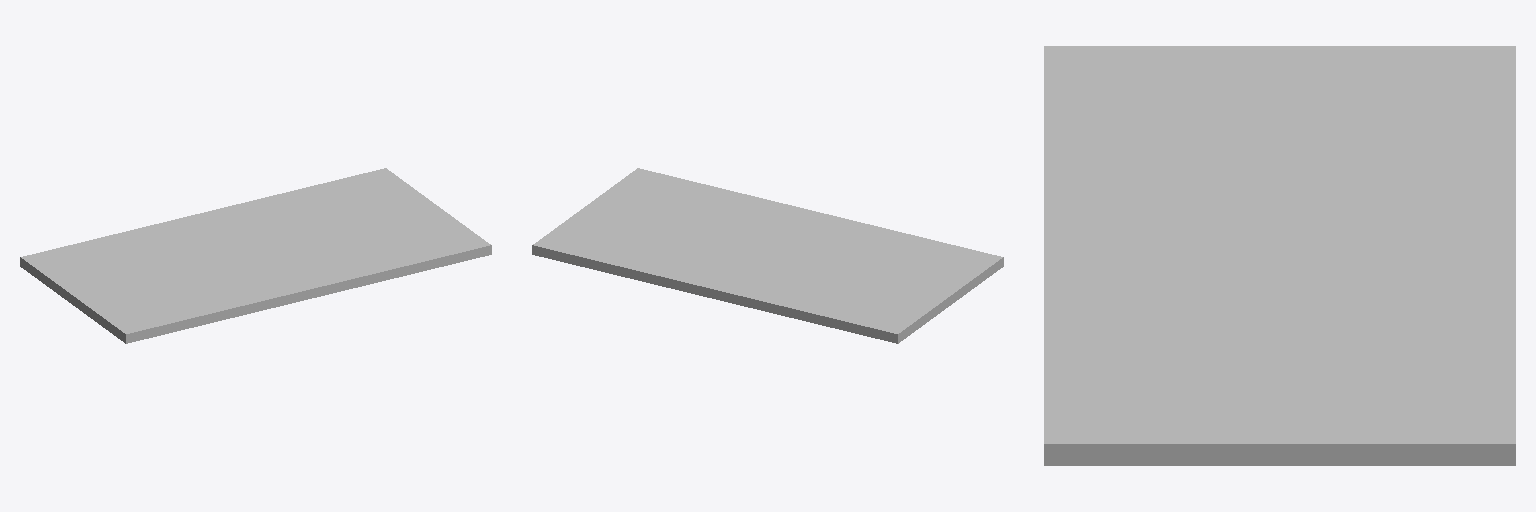
robot.urdf — table:
<robot name="table">
  <link name="table_body">
    <visual>
      <geometry>
        <box size="4 2 0.1"/>
      </geometry>
      <origin rpy="0 0 0" xyz="0 0 0"/>
      <material name="whitish">
        <color rgba="0.8 0.8 0.8 1"/>
      </material>
    </visual>
    <collision>
      <geometry>
        <box size="4 2 0.1"/>
      </geometry>
      <origin rpy="0 0 0" xyz="0 0 0"/>
    </collision>
    <inertial>
      <mass value="10"/>
      <inertia ixx="0.4" ixy="0.0" ixz="0.0" iyy="0.4" iyz="0.0" izz="0.2"/>
    </inertial>
    <contact>
      <lateral_friction value="1.0"/>
      <rolling_friction value="0.0"/>
      <contact_cfm value="0.0"/>
      <contact_erp value="1.0"/>
    </contact>
  </link>
</robot>

--- Render facts (derived) ---
Views: 3 orthographic renders of the robot side by side, from view 1: azimuth 30°, elevation 25°; view 2: azimuth 150°, elevation 25°; view 3: azimuth 270°, elevation 25°.
Model table with 1 links and 0 joints (none), rooted at table_body, posed all joints at 0.
Links seen in each view (by area): view 1: table_body; view 2: table_body; view 3: table_body.
Link boxes in pixels (x1,y1,x2,y2): table_body: [20, 168, 491, 343]; table_body: [532, 168, 1003, 343]; table_body: [1044, 46, 1515, 465].
Bounding box of the posed robot: 4 × 2 × 0.1 m (x, y, z).
Geometry: primitives only (box / cylinder / sphere), no mesh files.